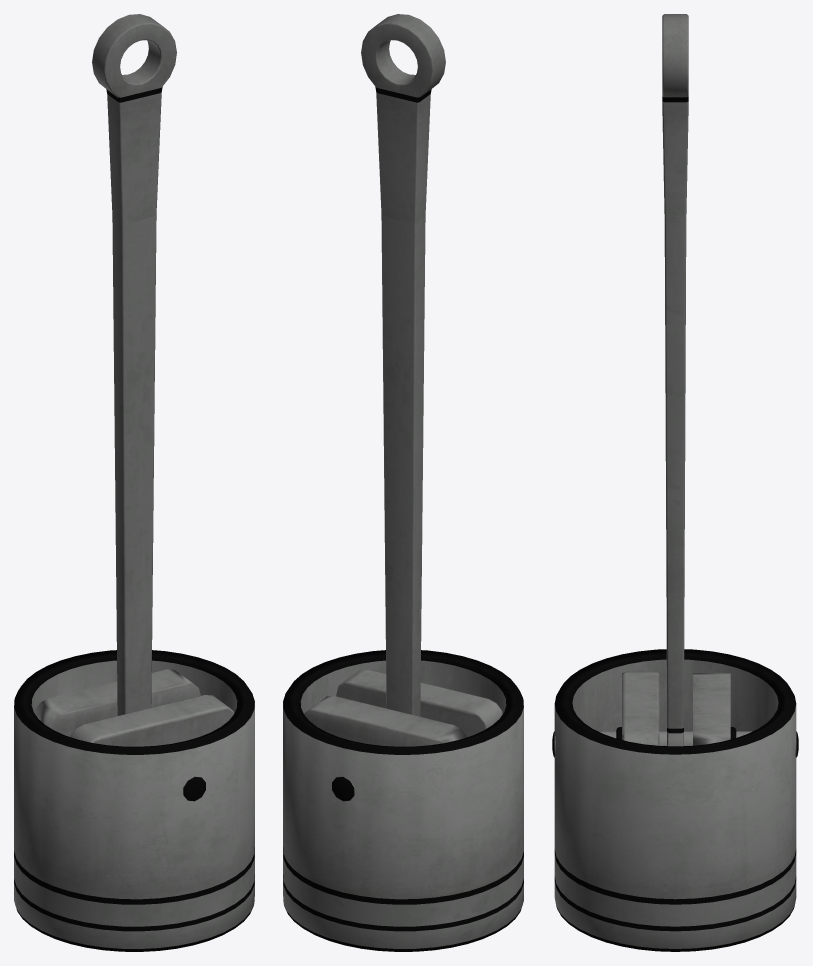
3 renders of one model, left to right at view 1: azimuth 30°, elevation 25°; view 2: azimuth 150°, elevation 25°; view 3: azimuth 270°, elevation 25°, orthographic.
Parts seen in each view (by area): view 1: SM_Piston_B; view 2: SM_Piston_B; view 3: SM_Piston_B.
Boxes of the visible parts, x1,y1,x2,y2 form: SM_Piston_B: (14,14,254,951); SM_Piston_B: (283,14,523,951); SM_Piston_B: (552,14,798,951).
Size of the model in its own units: 3.01 by 12.16 by 3.07.
